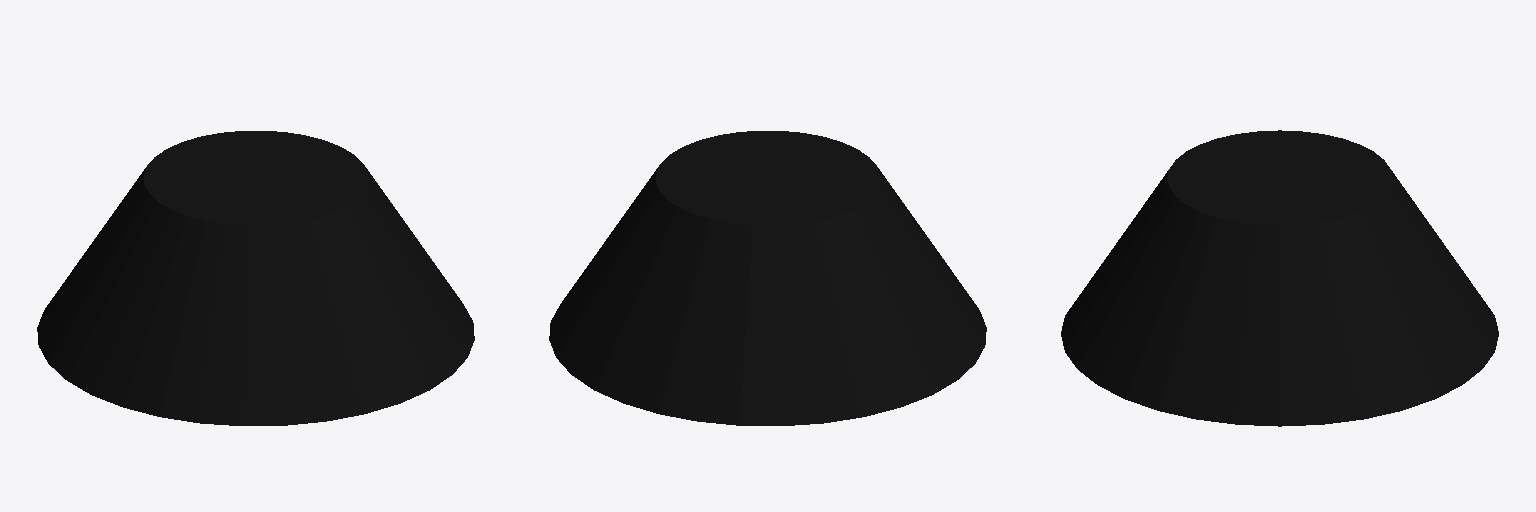
File: booster.obj
3 renders of one model, left to right at view 1: azimuth 30°, elevation 25°; view 2: azimuth 150°, elevation 25°; view 3: azimuth 270°, elevation 25°, orthographic.
Visible parts, largest first — view 1: Cylinder; view 2: Cylinder; view 3: Cylinder.
Boxes of the visible parts, <box> form: Cylinder: <box>37,131,474,425</box>; Cylinder: <box>549,131,986,425</box>; Cylinder: <box>1061,130,1498,426</box>.
Size of the model in its own units: 18.51 by 7.26 by 18.51.